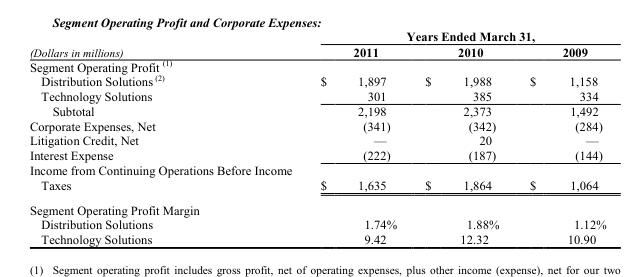table: (28, 29, 605, 245)
table column: (28, 29, 305, 245), (305, 29, 410, 245), (410, 29, 513, 245), (513, 29, 605, 245)
table column header: (28, 29, 605, 58)
table projected row header: (28, 197, 605, 216), (28, 58, 605, 72)
table row: (28, 162, 605, 197), (28, 197, 605, 216), (28, 72, 605, 88), (28, 43, 605, 58), (28, 88, 605, 103), (28, 103, 605, 118), (28, 132, 605, 147), (28, 147, 605, 162), (28, 216, 605, 231), (28, 29, 605, 43), (28, 58, 605, 72), (28, 118, 605, 132), (28, 231, 605, 245)
table spanning cell: (28, 29, 305, 58), (305, 29, 605, 43)
